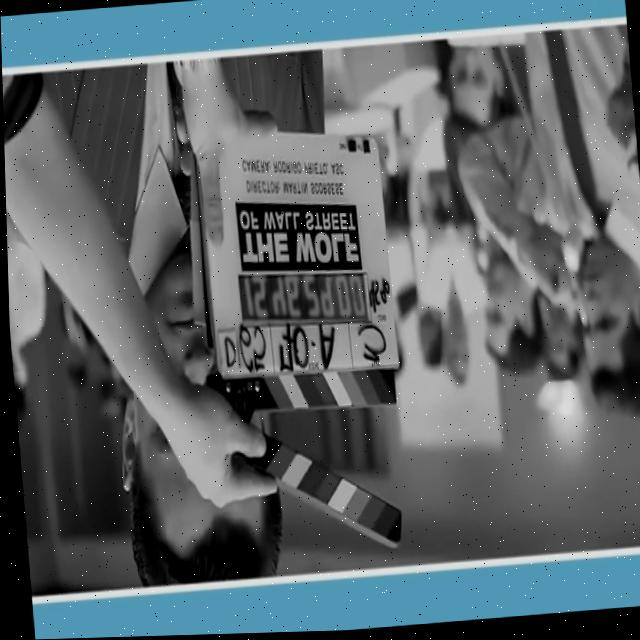Clapperboard: (189, 134, 417, 561)
